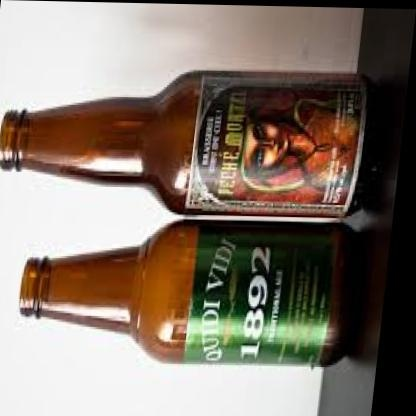trash: (1, 71, 364, 216), (20, 221, 345, 364)
